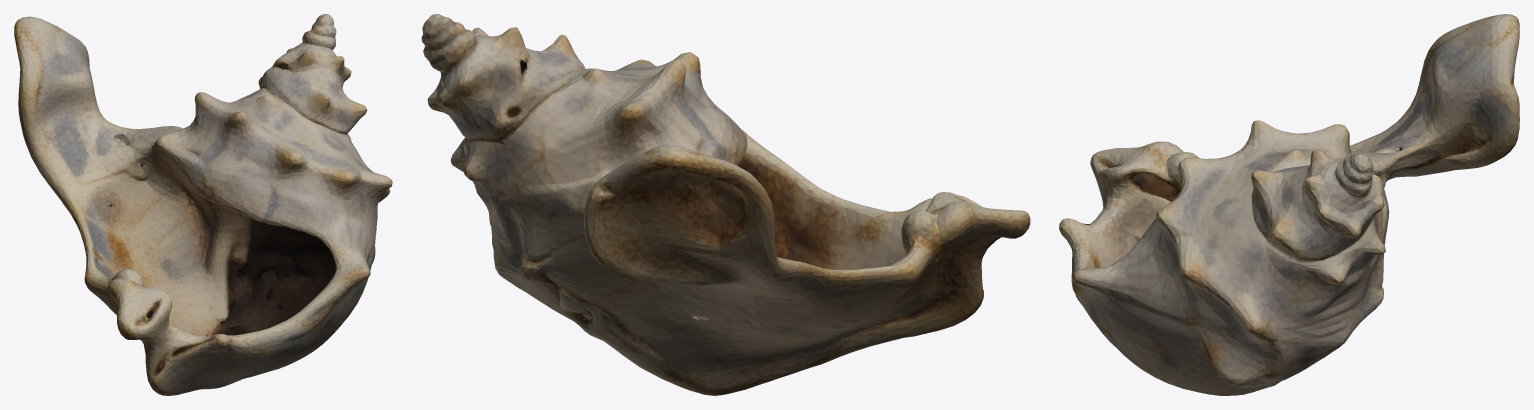
3 views of the same model, side by side, from view 1: azimuth 30°, elevation 25°; view 2: azimuth 150°, elevation 25°; view 3: azimuth 270°, elevation 25° (orthographic). The views are drawn at different scales.
Visible parts, largest first — view 1: world; view 2: world; view 3: world.
Boxes of the visible parts, left/top/right/bottom form: world: left=14, top=14, right=392, bottom=395; world: left=421, top=14, right=1030, bottom=395; world: left=1059, top=14, right=1519, bottom=395.
Size of the model in its own units: 0.067 by 0.0552 by 0.07.
Materials: 1 (1 with a texture image).
